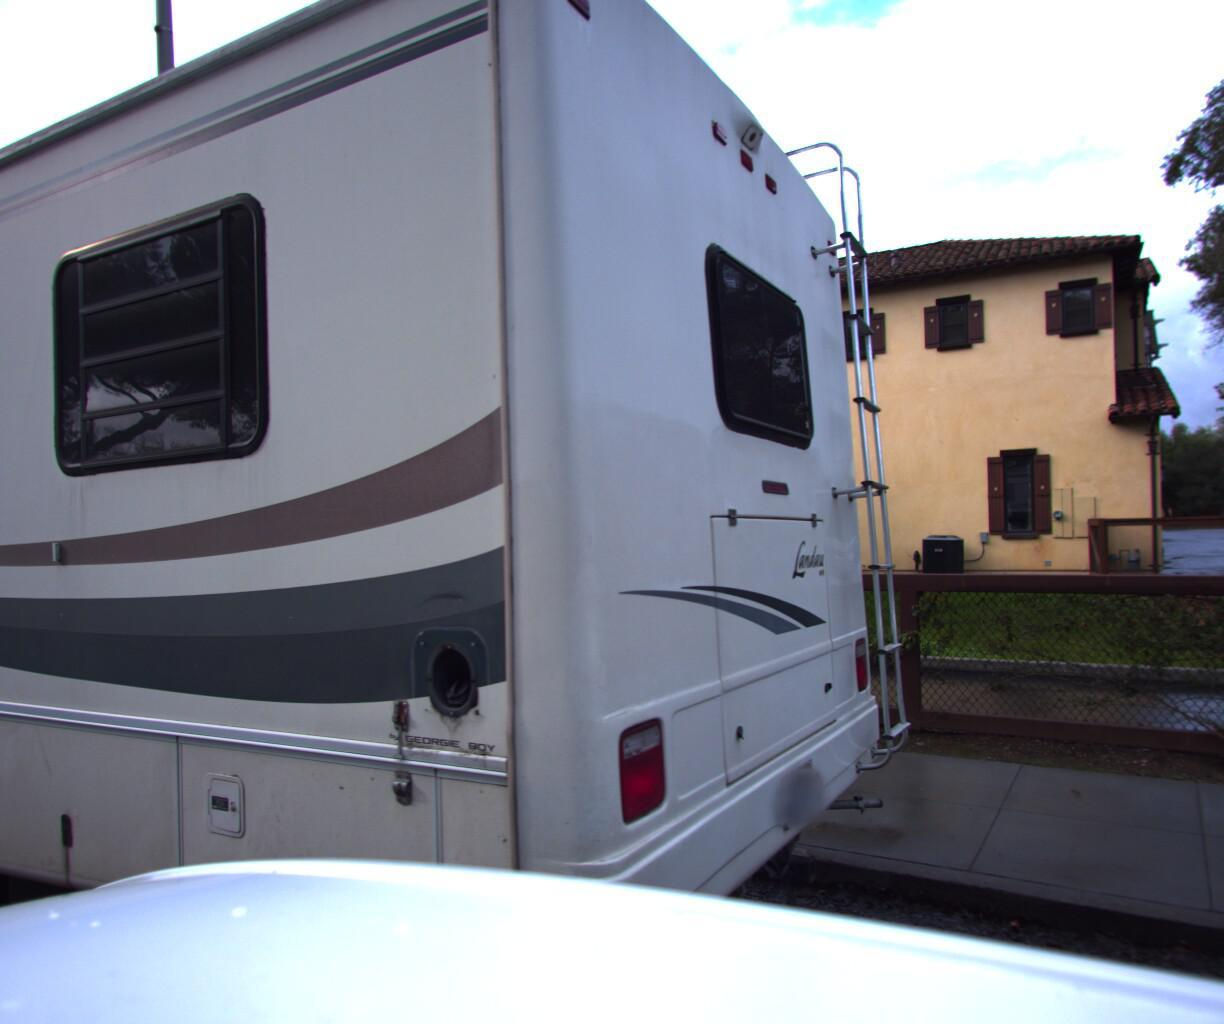truck: (0, 0, 893, 1024)
